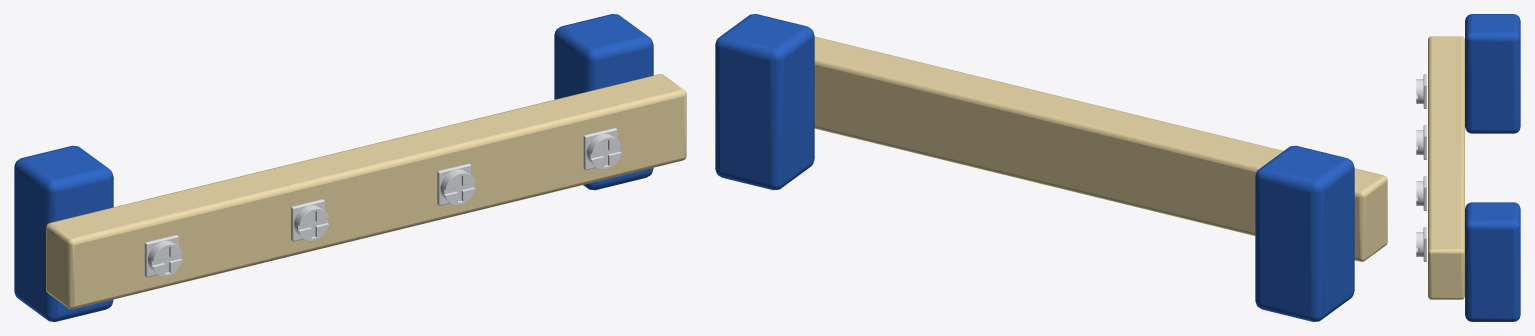
Rendered from nbar.glb.
3 renders of one model, left to right at view 1: azimuth 30°, elevation 25°; view 2: azimuth 150°, elevation 25°; view 3: azimuth 270°, elevation 25°, orthographic. The views are drawn at different scales.
Visible parts, largest first — view 1: bar, body; view 2: bar, body; view 3: body, bar.
Part boxes in pixels (x1,y1,x2,y2): bar: (46,74,686,309); body: (14,14,653,321); bar: (814,36,1387,261); body: (715,14,1354,321); body: (1465,14,1520,321); bar: (1416,36,1464,299).
Bounding box in the file's own units: 0.11 × 0.024 × 0.0225.
